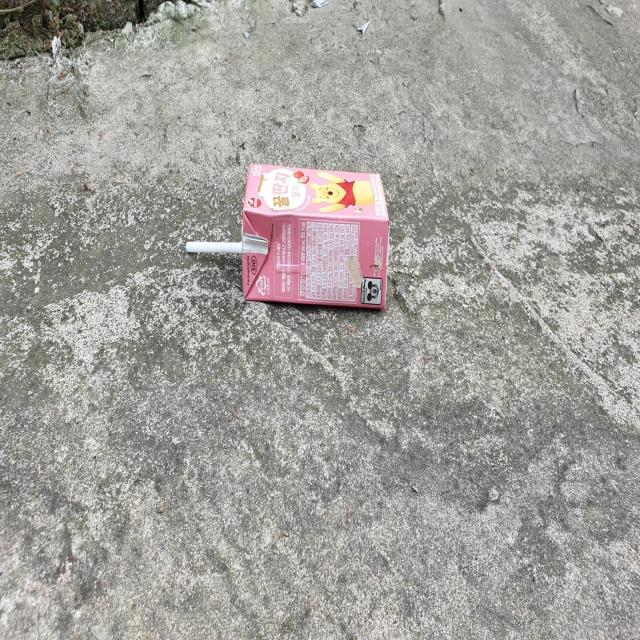paperpack: (242, 163, 390, 307)
